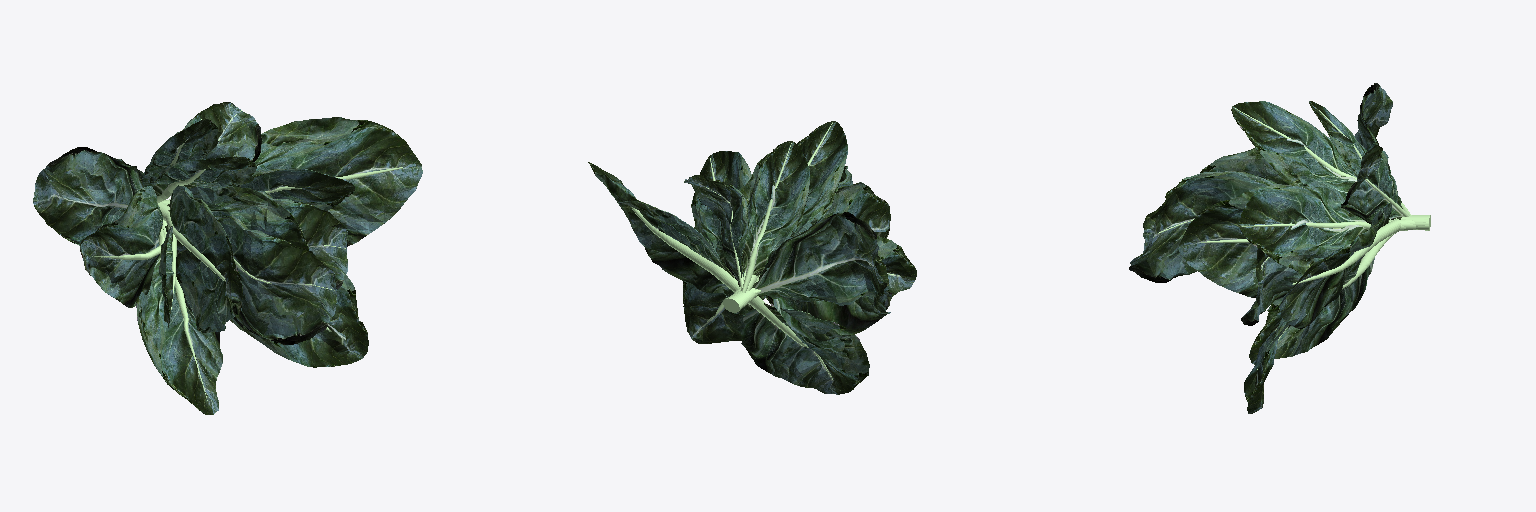
3 renders of one model, left to right at view 1: azimuth 30°, elevation 25°; view 2: azimuth 150°, elevation 25°; view 3: azimuth 270°, elevation 25°, orthographic.
Visible parts, largest first — view 1: plant_Cylinder.049; view 2: plant_Cylinder.049; view 3: plant_Cylinder.049.
Boxes of the visible parts, <box> form: plant_Cylinder.049: <box>33,102,422,414</box>; plant_Cylinder.049: <box>588,121,916,394</box>; plant_Cylinder.049: <box>1129,83,1430,413</box>.
Bounding box in the file's own units: 0.2957 × 0.2245 × 0.228.
2 materials, 1 textured.